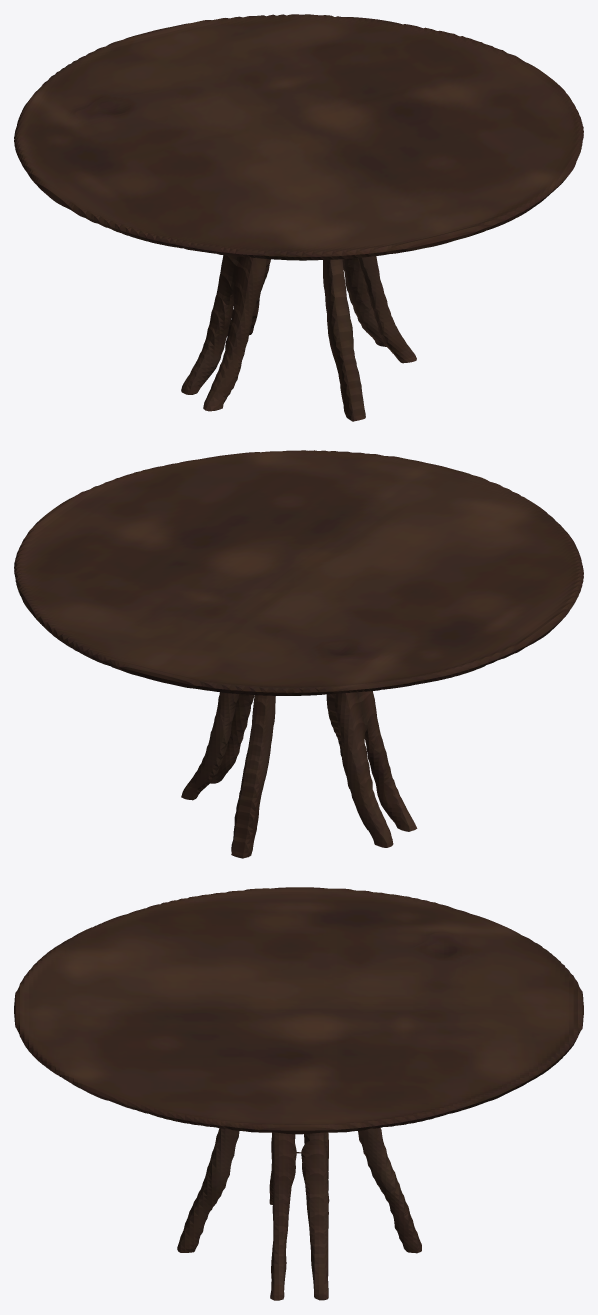
The model's file is table_top.glb.
3 views of the same model, one above another, from view 1: azimuth 30°, elevation 25°; view 2: azimuth 150°, elevation 25°; view 3: azimuth 270°, elevation 25° (orthographic).
Visible parts, largest first — view 1: tmpx9_a7uvt.ply; view 2: tmpx9_a7uvt.ply; view 3: tmpx9_a7uvt.ply.
Boxes of the visible parts, x1,y1,x2,y2 form: tmpx9_a7uvt.ply: (14,14,583,421); tmpx9_a7uvt.ply: (14,450,583,858); tmpx9_a7uvt.ply: (14,887,583,1300).
Bounding box in the file's own units: 1.98 × 0.9391 × 1.98.
